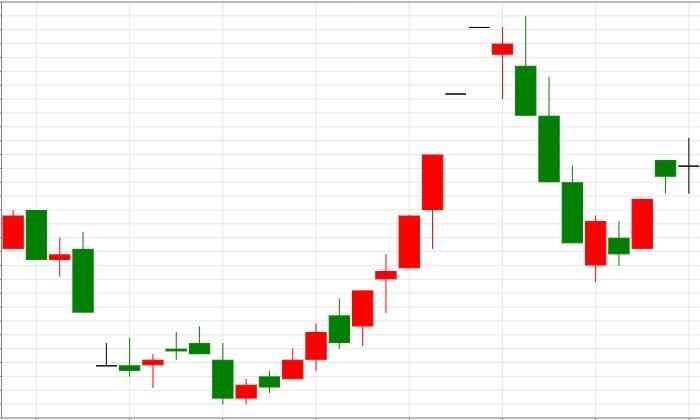three_black_crows_fall: (352, 15, 583, 345)
